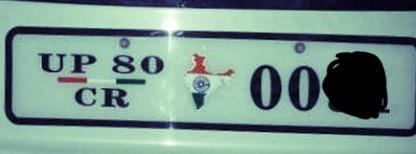0: (247, 62, 282, 112), (287, 64, 321, 112), (137, 53, 166, 75)
8: (110, 52, 135, 73)
C: (73, 85, 97, 106)
P: (68, 49, 96, 73)
R: (98, 86, 131, 109)
U: (36, 50, 66, 72)
